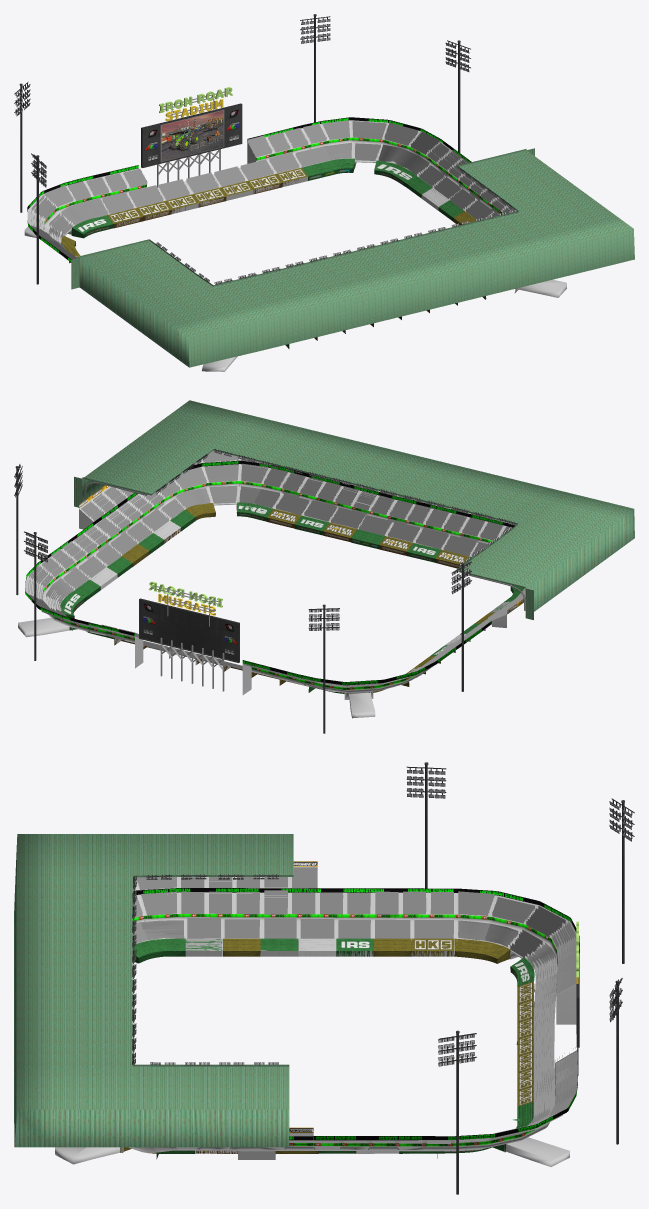
File: Night Stadium Final.fbx
The picture shows the model from 3 angles, top to bottom: view 1: azimuth 30°, elevation 25°; view 2: azimuth 150°, elevation 25°; view 3: azimuth 270°, elevation 25°; orthographic projection. The views are drawn at different scales.
Parts seen in each view (by area): view 1: SHADE1, crowd3, ADD_SLIDE2, screen2, screen3, model_0_Mesh209, POLE_LIGHT6, POLE_LIGHT8, POLE_LIGHT7, POLE_LIGHT5, polySurface40, model_0_Mesh211 (+2 smaller); view 2: SHADE1, crowd3, ADD_SLIDE2, screen3, POLE_LIGHT7, polySurface40, POLE_LIGHT6, POLE_LIGHT5, TURBO_TOPIA_TEXT1, POLE_LIGHT8, polySurface39; view 3: SHADE1, crowd3, ADD_SLIDE2, POLE_LIGHT8, POLE_LIGHT5, POLE_LIGHT7, model_0_Mesh185, model_0_Mesh152, model_0_Mesh172, POLE_LIGHT6, model_0_Mesh135, model_0_Mesh179 (+6 smaller).
Part boxes in pixels (<box>): SHADE1: <box>71,148,634,367</box>; crowd3: <box>31,120,514,262</box>; ADD_SLIDE2: <box>24,117,566,371</box>; screen2: <box>160,109,224,162</box>; screen3: <box>141,103,242,167</box>; model_0_Mesh209: <box>302,158,354,180</box>; POLE_LIGHT6: <box>300,14,330,122</box>; POLE_LIGHT8: <box>445,40,470,152</box>; POLE_LIGHT7: <box>14,82,30,212</box>; POLE_LIGHT5: <box>31,153,46,284</box>; polySurface40: <box>157,149,220,187</box>; model_0_Mesh211: <box>374,161,417,187</box>; SHADE1: <box>74,400,634,619</box>; crowd3: <box>28,450,525,689</box>; ADD_SLIDE2: <box>18,457,525,718</box>; screen3: <box>139,598,239,662</box>; POLE_LIGHT7: <box>308,604,339,733</box>; polySurface40: <box>160,637,224,691</box>; POLE_LIGHT6: <box>24,531,47,660</box>; POLE_LIGHT5: <box>451,561,471,691</box>; TURBO_TOPIA_TEXT1: <box>148,581,222,607</box>; POLE_LIGHT8: <box>14,464,22,595</box>; polySurface39: <box>151,585,220,626</box>; SHADE1: <box>14,834,293,1147</box>; crowd3: <box>132,867,576,1151</box>; ADD_SLIDE2: <box>55,861,579,1166</box>; POLE_LIGHT8: <box>438,1030,476,1194</box>; POLE_LIGHT5: <box>406,762,446,888</box>; POLE_LIGHT7: <box>609,798,634,963</box>; model_0_Mesh185: <box>454,938,510,963</box>; model_0_Mesh152: <box>133,938,185,963</box>; model_0_Mesh172: <box>411,938,454,956</box>; POLE_LIGHT6: <box>609,978,622,1144</box>; model_0_Mesh135: <box>298,938,336,956</box>; model_0_Mesh179: <box>223,938,260,956</box>.
Bounding box in the file's own units: 52204 × 13854 × 47887.
